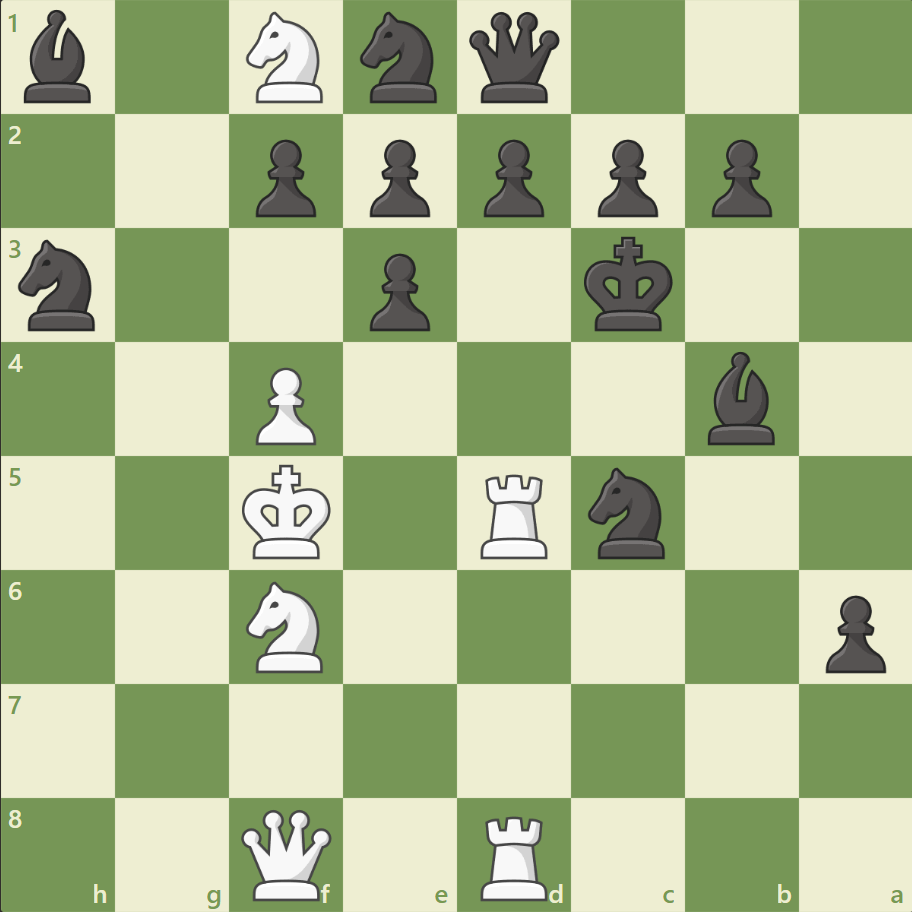K: (238, 458, 338, 566)
N: (238, 7, 335, 110), (238, 575, 335, 677)
P: (247, 359, 322, 450)
Q: (237, 804, 336, 903)
R: (473, 806, 556, 904), (473, 466, 556, 563)
b: (17, 6, 101, 109), (698, 347, 782, 449)
k: (579, 231, 679, 339)
n: (351, 7, 449, 110), (579, 461, 676, 564), (11, 234, 108, 337)
p: (701, 132, 776, 223), (474, 132, 549, 223), (247, 132, 322, 223), (815, 586, 889, 677), (361, 246, 435, 337), (588, 132, 662, 223), (361, 132, 435, 223)
q: (464, 9, 563, 108)
